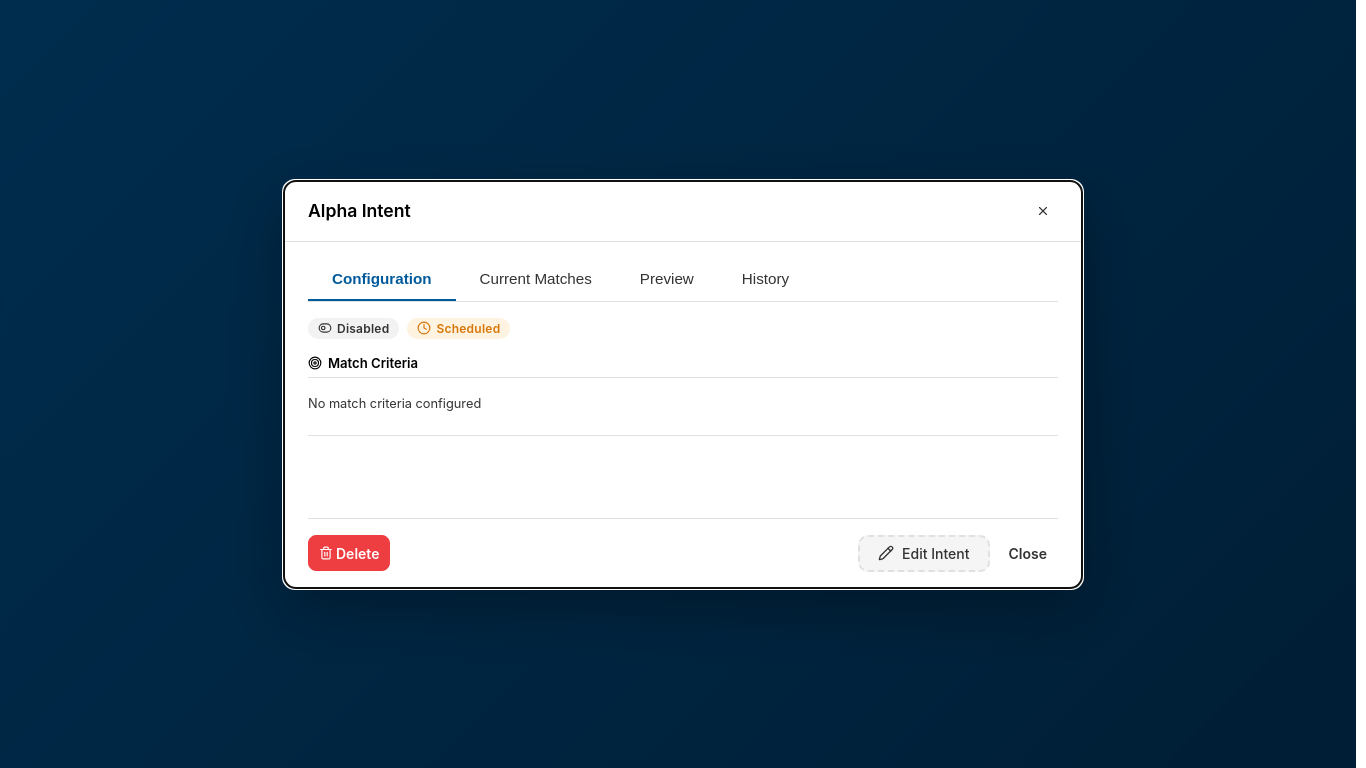
Test: IntentDetailModal identity guards › drops an execution detail response after going back and opening another execution
What coordinates should you click on to do the following:
click the tab "History"
I would click on:
 (765, 279)
Its box is top-left (718, 258), bottom-right (813, 300).
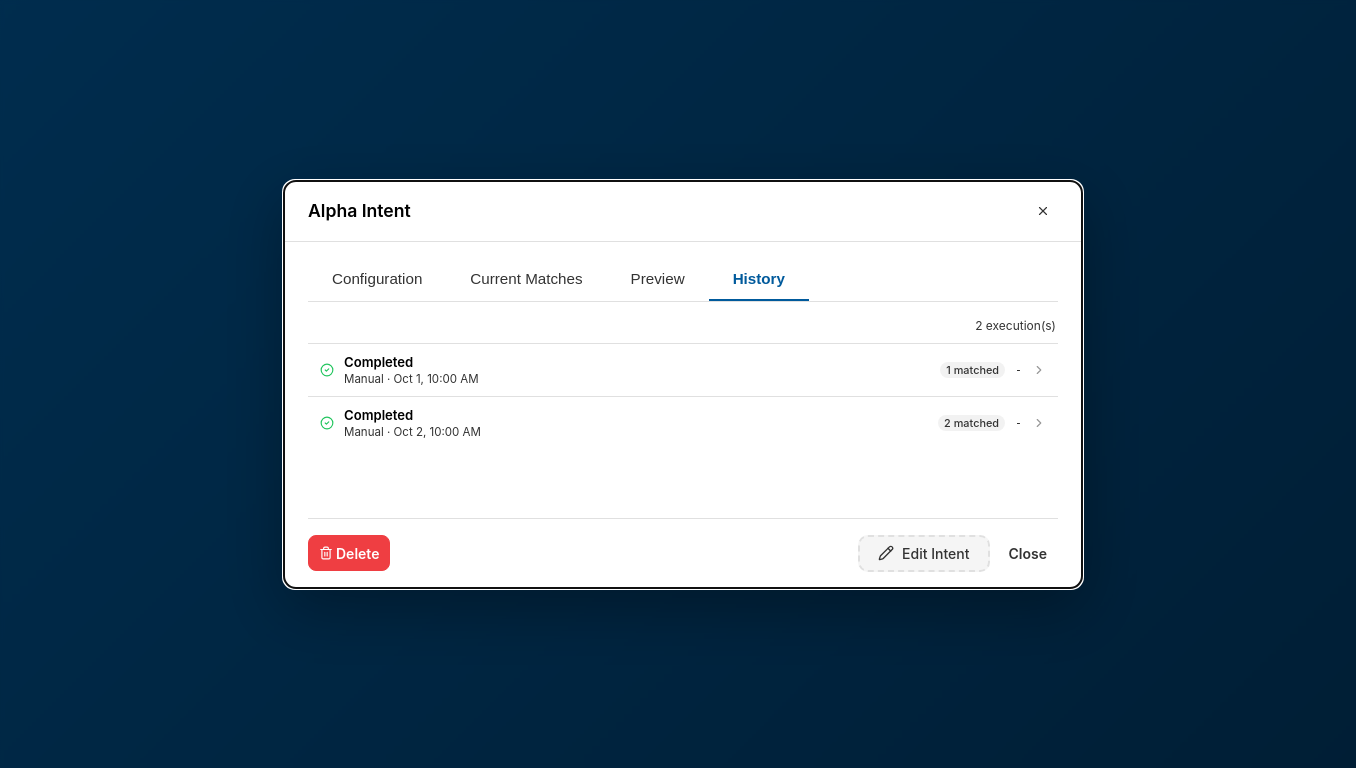
Expected: the text "1 matched" is shown, top-left (940, 362), bottom-right (1005, 378)
What coordinates should you click on to do the following:
click the button "1 matched"
I would click on:
 (379, 362)
Its box is top-left (308, 344), bottom-right (1058, 396).
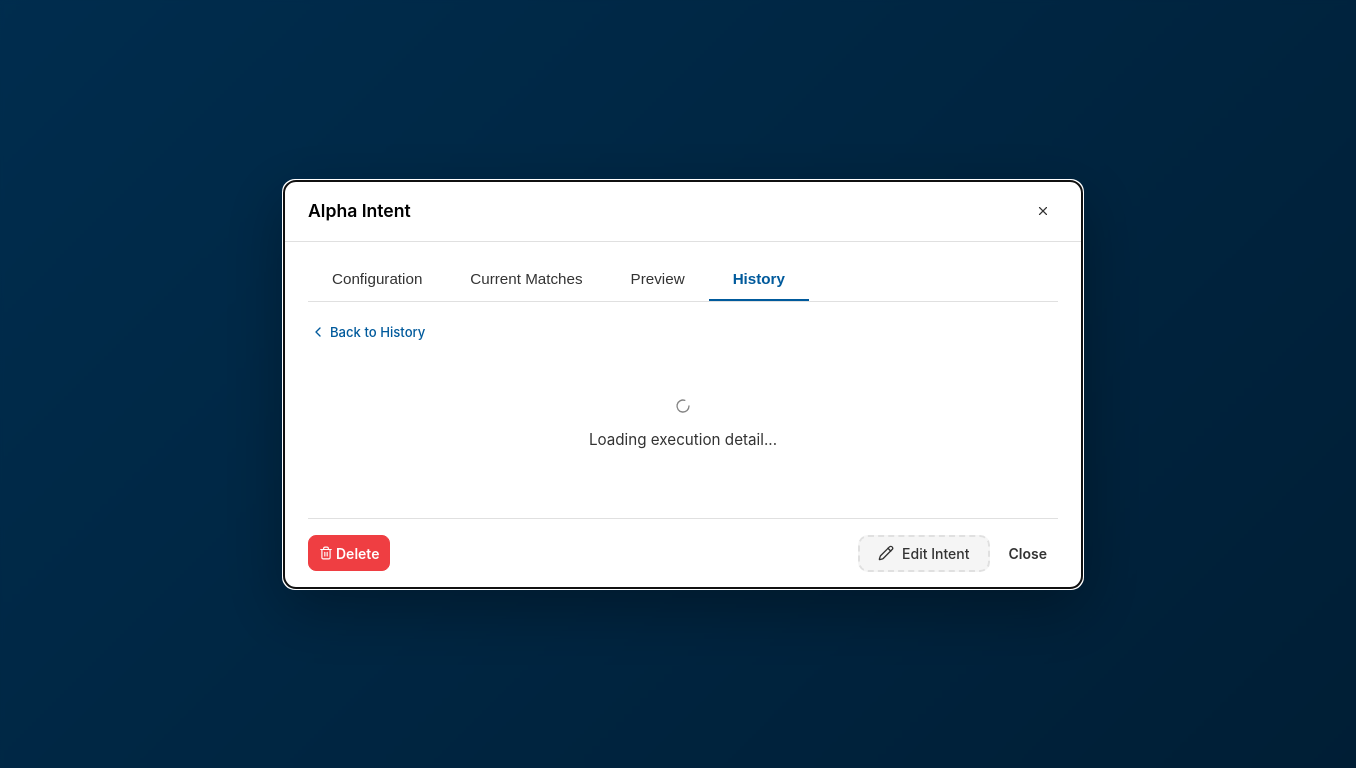
What coordinates should you click on to do the following:
click the button "Back to History"
I would click on:
 (368, 332)
Its box is top-left (308, 318), bottom-right (427, 346).
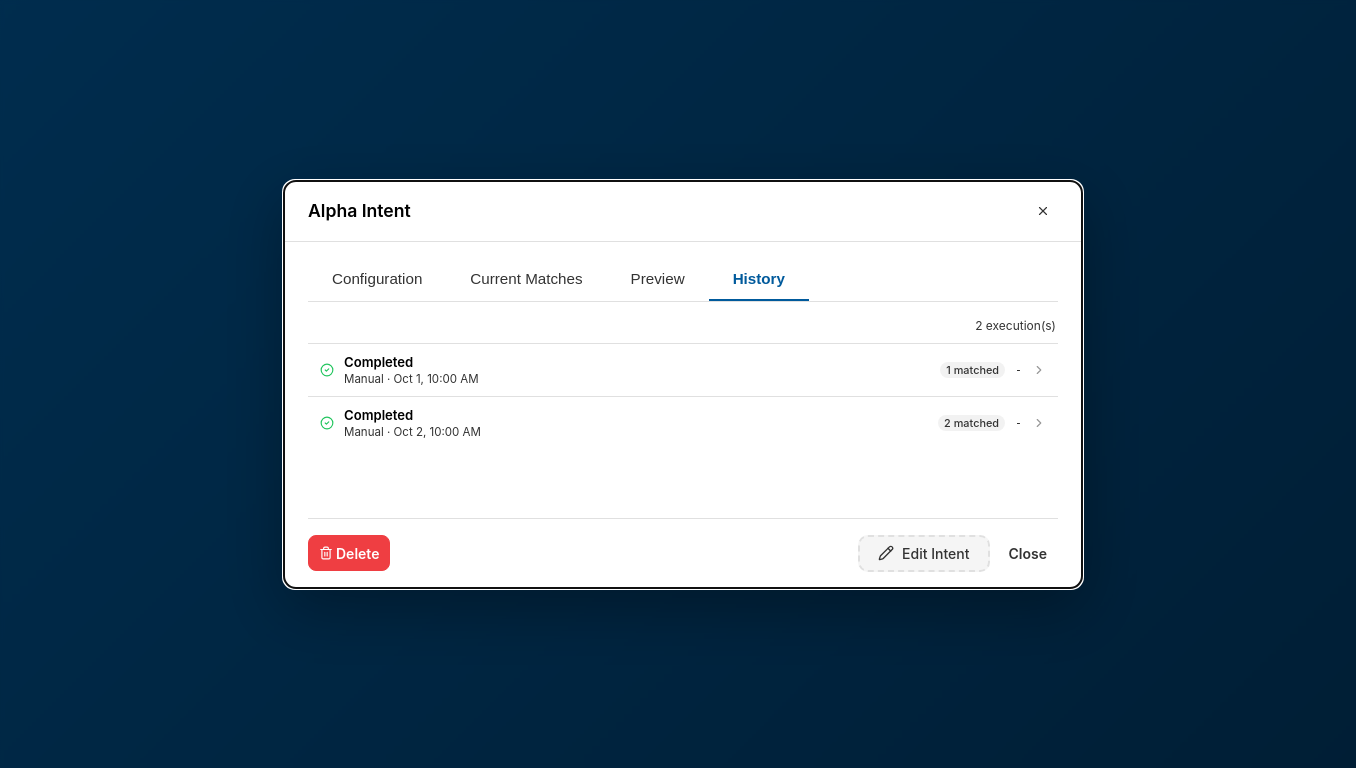
What coordinates should you click on to do the following:
click the button "2 matched"
I would click on:
 (379, 414)
Its box is top-left (308, 396), bottom-right (1058, 448).
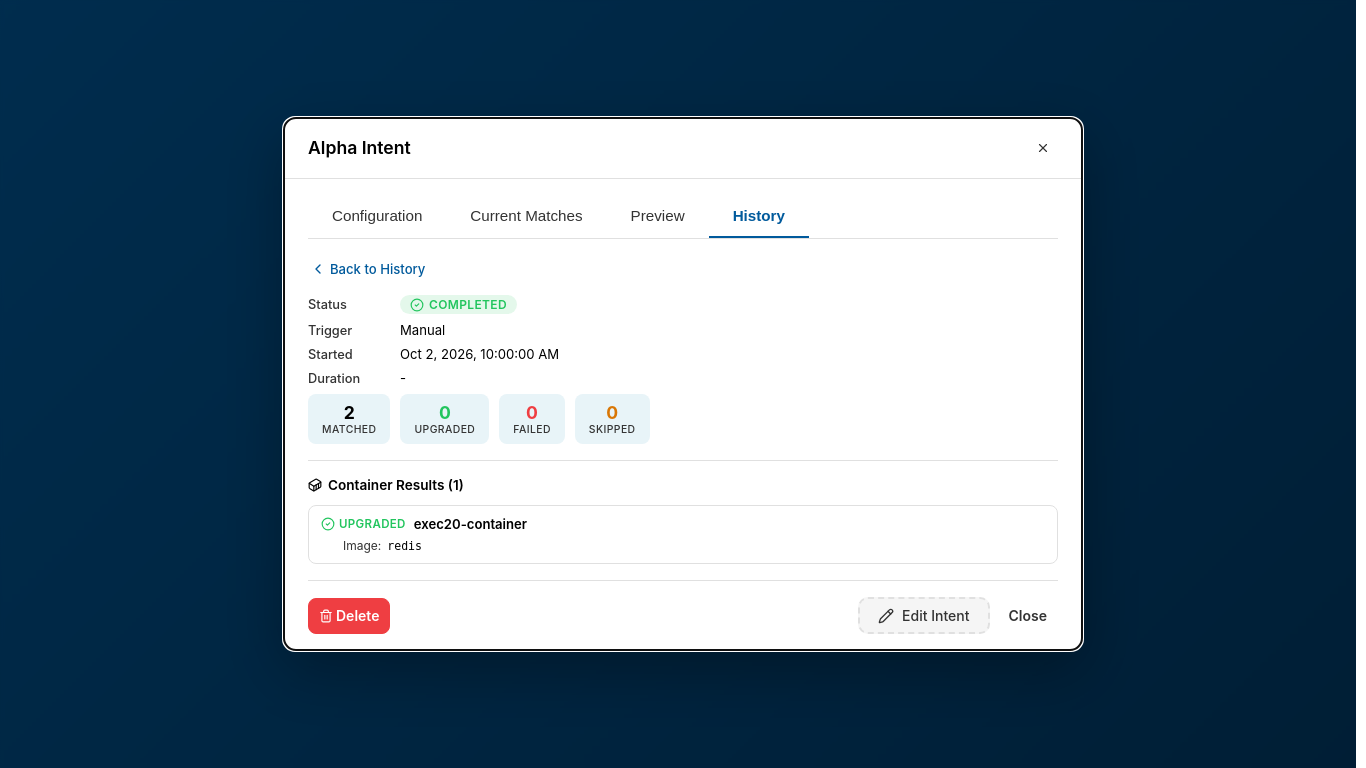
Expected: the text "exec20-container" is shown, top-left (414, 516), bottom-right (527, 532)
